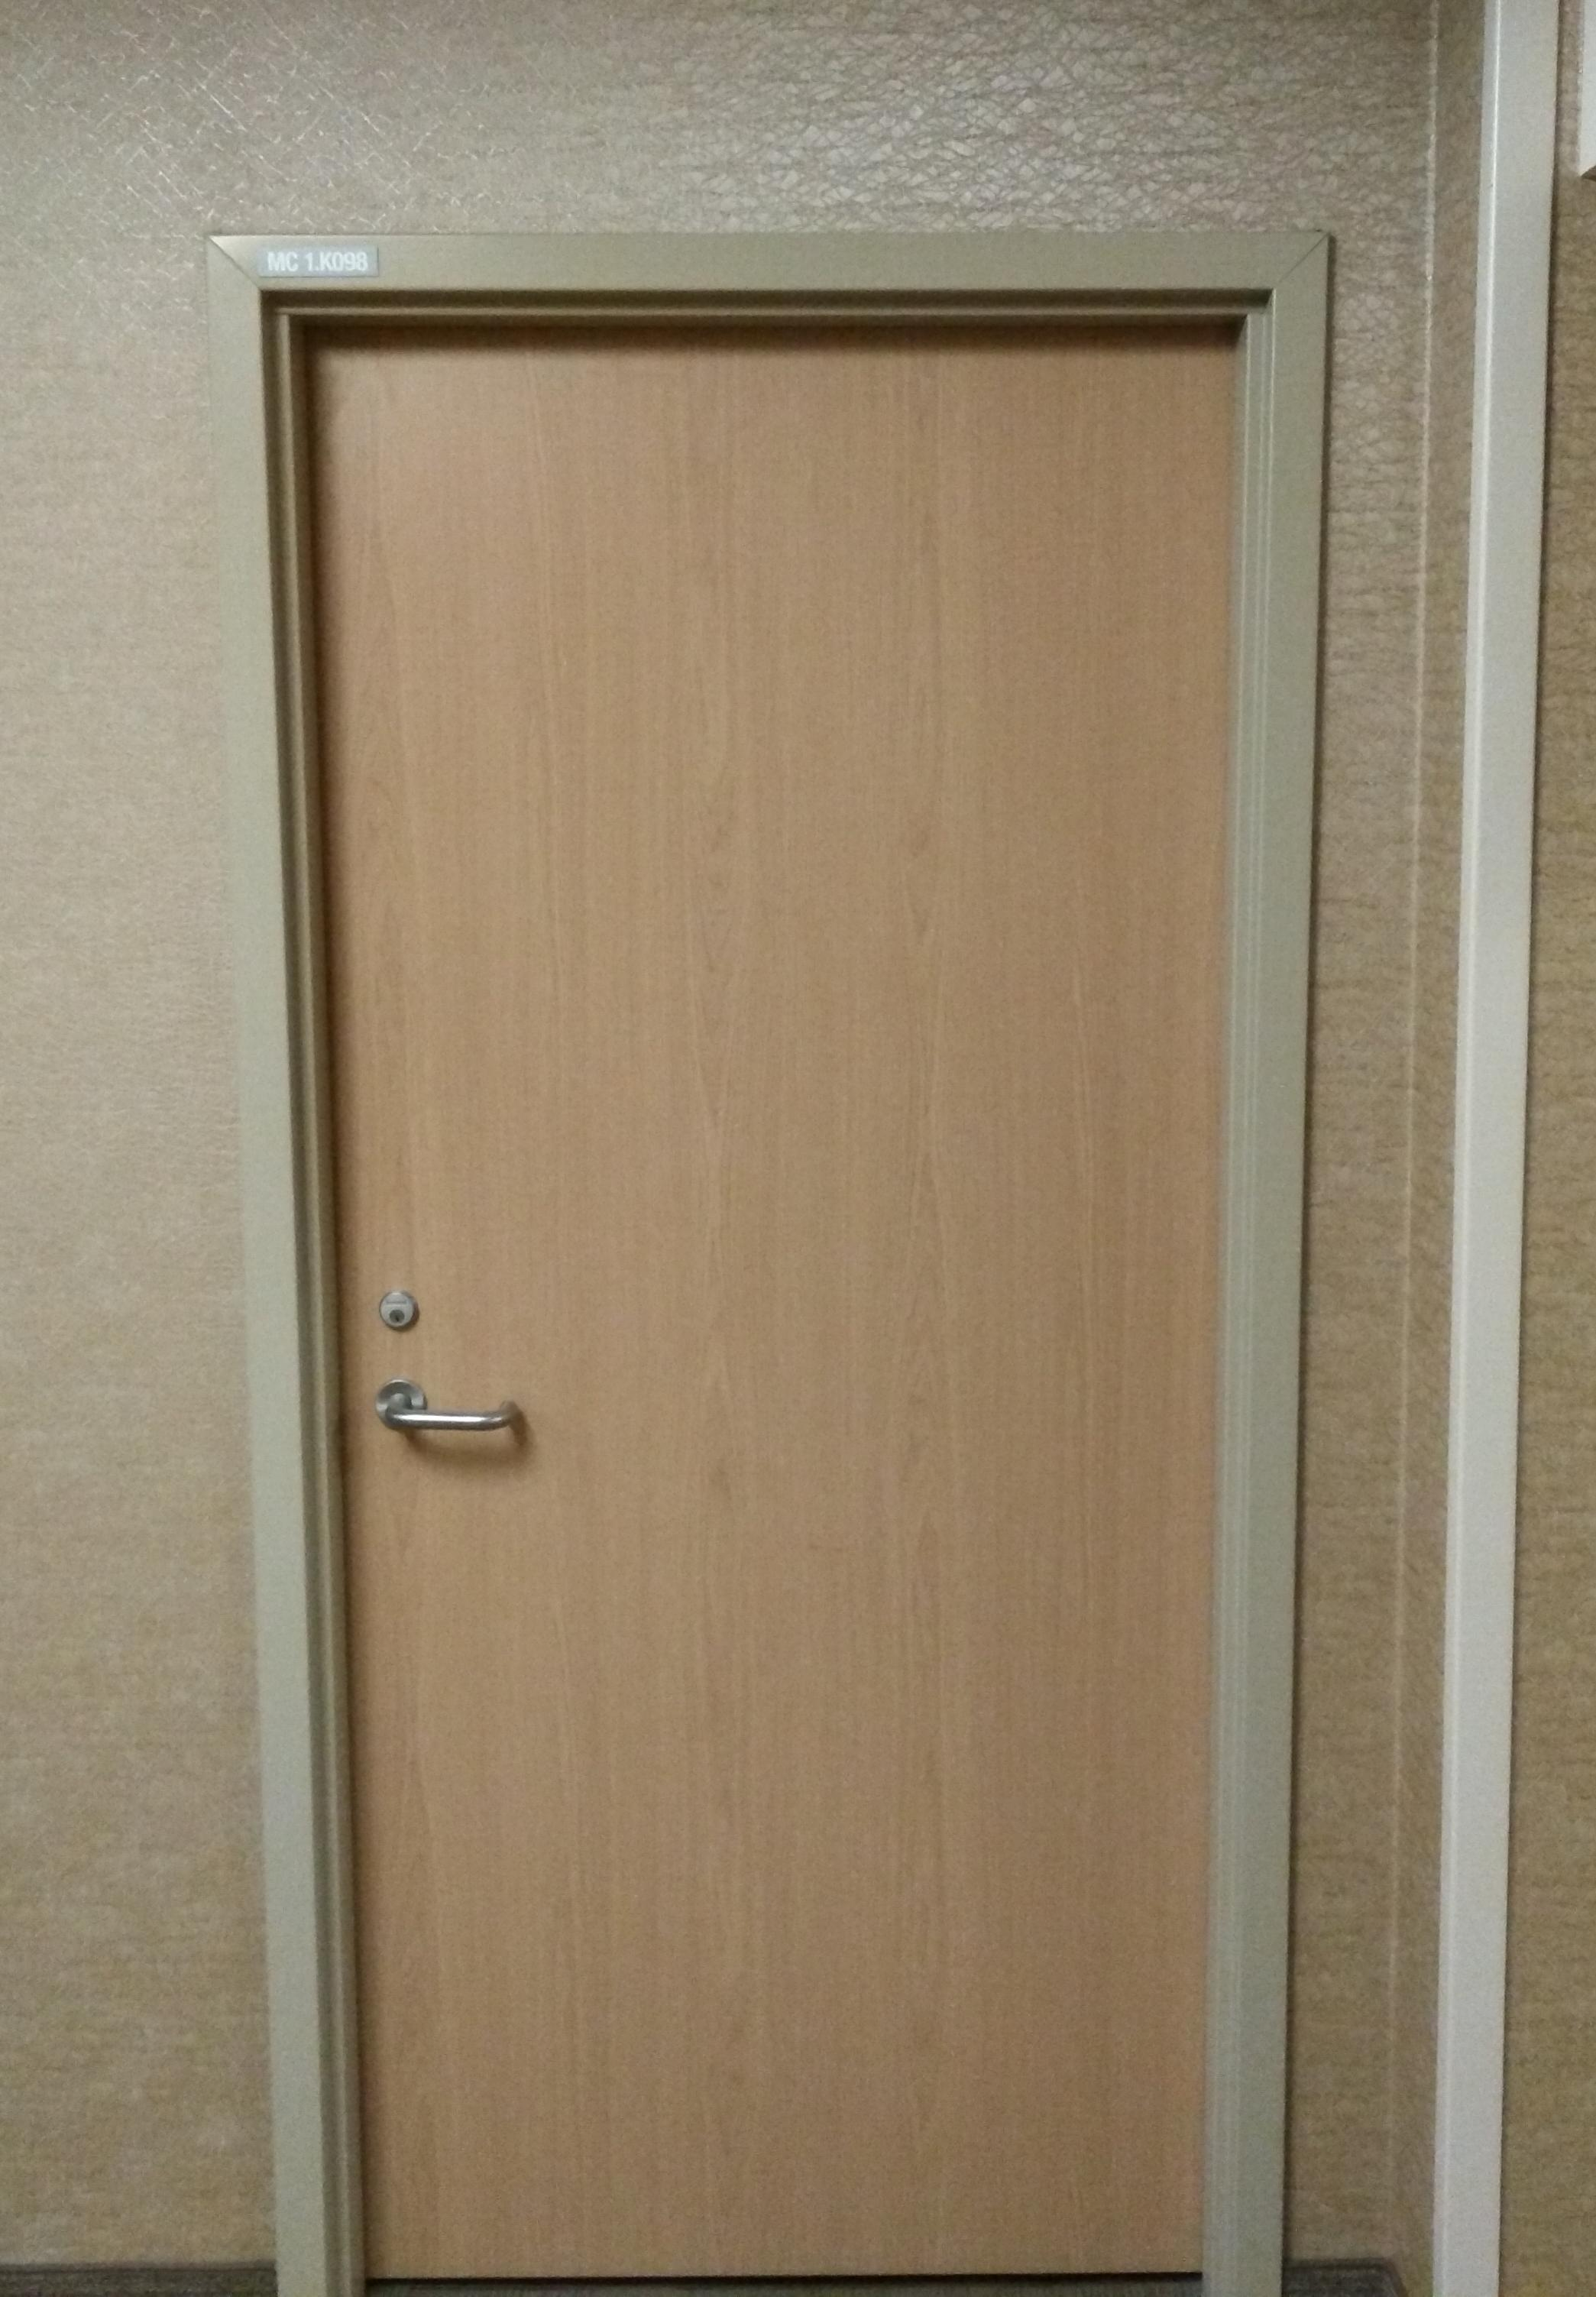door: (242, 258, 1249, 2285)
